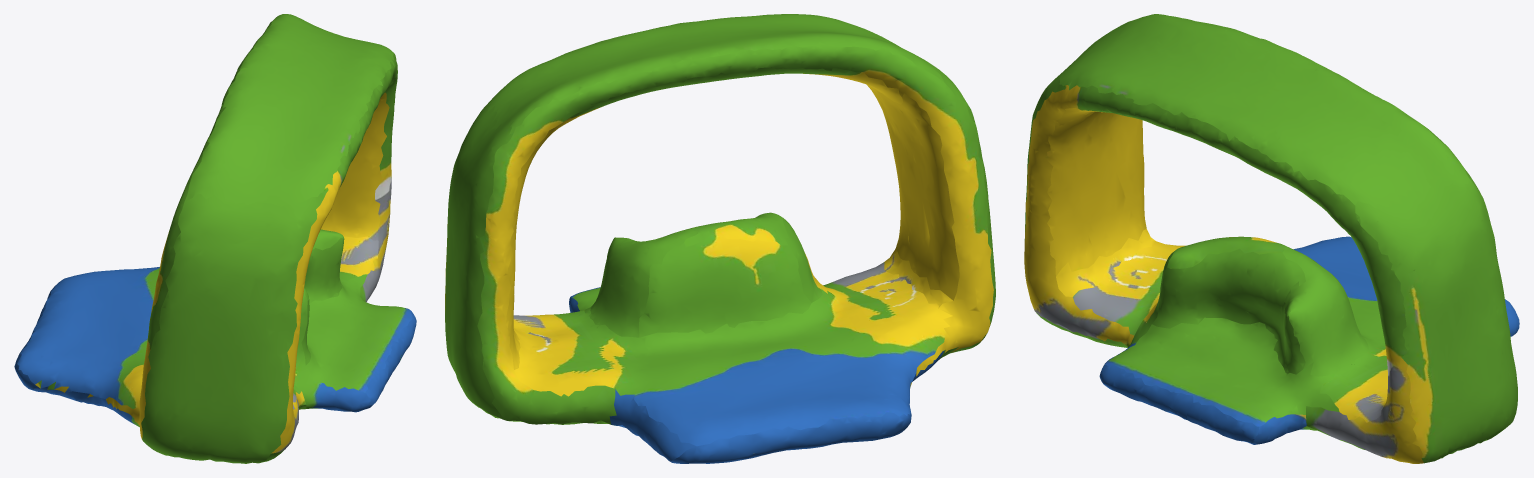
File: launchgate.glb
3 views of the same model, side by side, from view 1: azimuth 30°, elevation 25°; view 2: azimuth 150°, elevation 25°; view 3: azimuth 270°, elevation 25° (orthographic). The views are drawn at different scales.
Visible parts, largest first — view 1: geometry_0; view 2: geometry_0; view 3: geometry_0.
Part boxes in pixels (x1=…): geometry_0: x1=14, y1=14, x2=416, y2=463; geometry_0: x1=445, y1=14, x2=995, y2=463; geometry_0: x1=1024, y1=14, x2=1519, y2=463.
Bounding box in the file's own units: 0.8201 × 0.5787 × 0.8145.
Materials: 1 (1 with a texture image).
